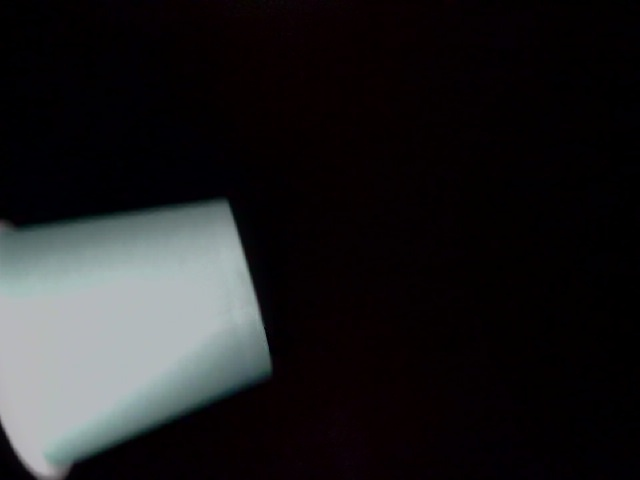CYLJ: (238, 96, 358, 215)
